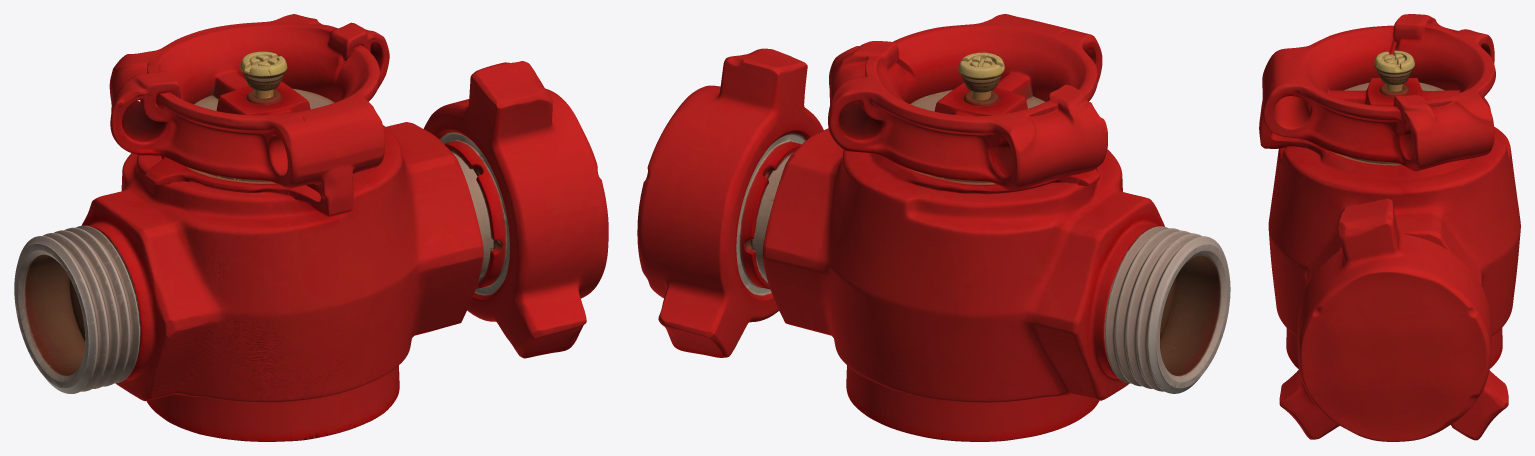
The model's file is ValvulaULTPartes.glb.
3 renders of one model, left to right at view 1: azimuth 30°, elevation 25°; view 2: azimuth 150°, elevation 25°; view 3: azimuth 270°, elevation 25°, orthographic. The views are drawn at different scales.
Visible parts, largest first — view 1: tripo_part_0, tripo_part_1, tripo_part_2, tripo_part_3; view 2: tripo_part_0, tripo_part_1, tripo_part_2, tripo_part_3; view 3: tripo_part_2, tripo_part_1, tripo_part_0.
Part boxes in pixels (x1,y1,x2,y2): tripo_part_0: [14, 122, 483, 441]; tripo_part_1: [109, 14, 389, 216]; tripo_part_2: [423, 61, 608, 358]; tripo_part_3: [442, 135, 509, 292]; tripo_part_0: [762, 128, 1230, 441]; tripo_part_1: [828, 14, 1107, 190]; tripo_part_2: [637, 48, 823, 357]; tripo_part_3: [737, 136, 803, 291]; tripo_part_2: [1279, 198, 1508, 441]; tripo_part_1: [1259, 14, 1495, 171]; tripo_part_0: [1268, 126, 1520, 368].
Size of the model in its own units: 1 by 0.6234 by 0.5153.
Materials: 4 (4 with a texture image).
